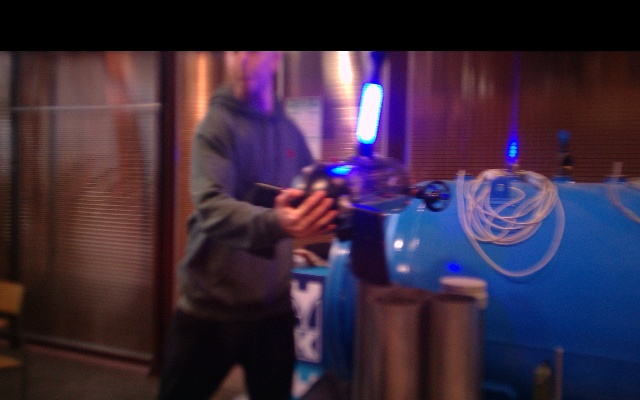blue: (355, 83, 383, 146)
